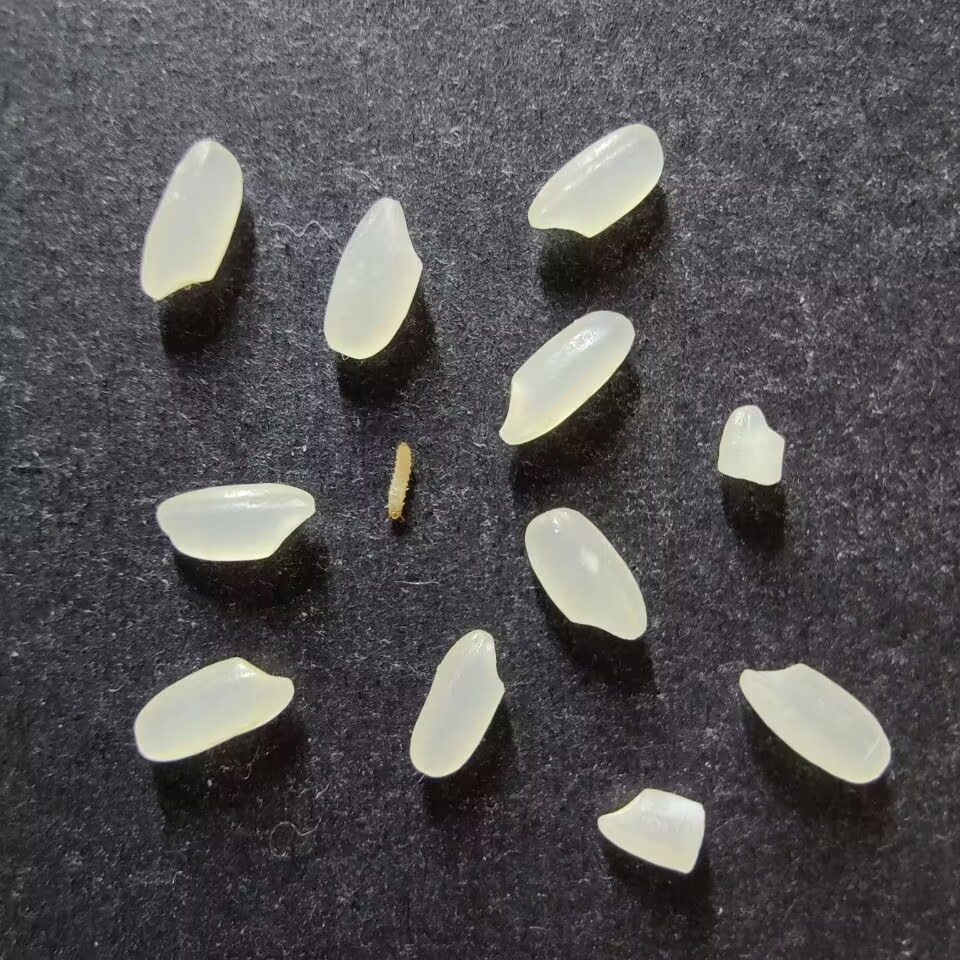broken: (597, 788, 706, 874), (717, 404, 785, 486)
others: (383, 439, 412, 524)
rice: (498, 309, 636, 445), (739, 662, 892, 784), (134, 656, 295, 763), (140, 138, 244, 301), (524, 506, 648, 641), (323, 196, 423, 359), (527, 124, 665, 238), (409, 628, 507, 777), (156, 481, 317, 563)
